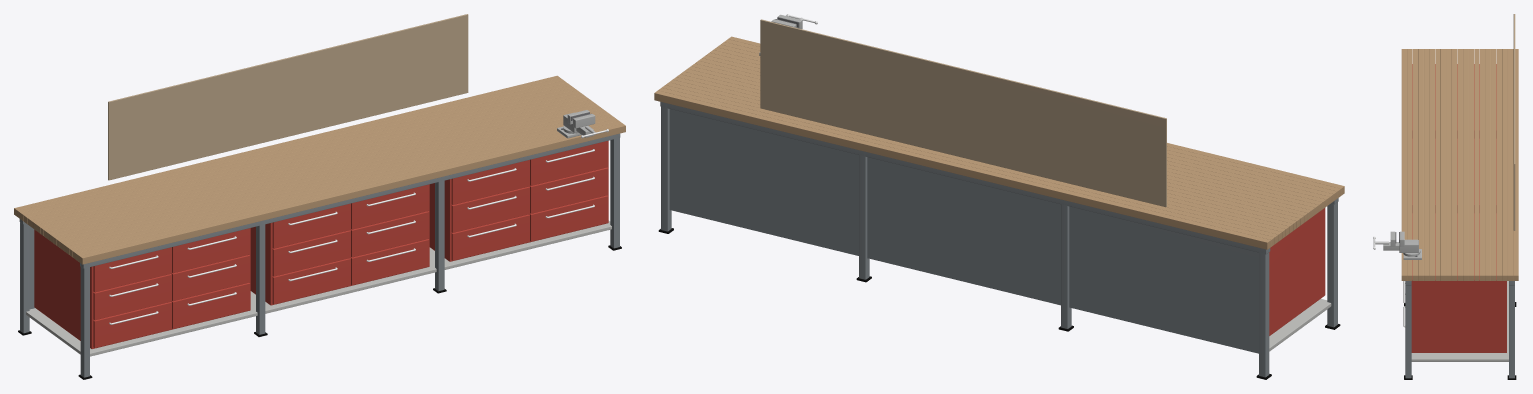
Rendered from industrial.workshop.shed_workbench.glb.
3 views of the same model, side by side, from view 1: azimuth 30°, elevation 25°; view 2: azimuth 150°, elevation 25°; view 3: azimuth 270°, elevation 25° (orthographic). The views are drawn at different scales.
Visible parts, largest first — view 1: main__paint_c44, main__timber_ca7, main__paint_ca8, main__paint_889, main__paint_ccc, main__chrome_eee, main__galv_bbb; view 2: main__paint_889, main__paint_ca8, main__timber_ca7, main__paint_c44, main__paint_ccc; view 3: main__timber_ca7, main__paint_c44, main__paint_889, main__paint_ccc, main__galv_bbb, main__paint_ca8.
Boxes of the visible parts, bbox=[...] form: main__paint_c44: bbox=[34, 140, 608, 348]; main__timber_ca7: bbox=[14, 75, 625, 264]; main__paint_ca8: bbox=[108, 14, 468, 180]; main__paint_889: bbox=[19, 133, 620, 377]; main__paint_ccc: bbox=[26, 220, 611, 356]; main__chrome_eee: bbox=[109, 129, 608, 324]; main__galv_bbb: bbox=[557, 110, 595, 138]; main__paint_889: bbox=[660, 102, 1338, 377]; main__paint_ca8: bbox=[760, 19, 1166, 207]; main__timber_ca7: bbox=[654, 36, 1344, 249]; main__paint_c44: bbox=[1269, 208, 1325, 335]; main__paint_ccc: bbox=[1269, 299, 1331, 351]; main__timber_ca7: bbox=[1401, 49, 1518, 280]; main__paint_c44: bbox=[1411, 64, 1506, 352]; main__paint_889: bbox=[1405, 281, 1514, 378]; main__paint_ccc: bbox=[1411, 281, 1508, 361]; main__galv_bbb: bbox=[1383, 231, 1421, 259]; main__paint_ca8: bbox=[1513, 14, 1515, 230].
Bounding box in the file's own units: 4.35 × 1.6 × 1.18.
